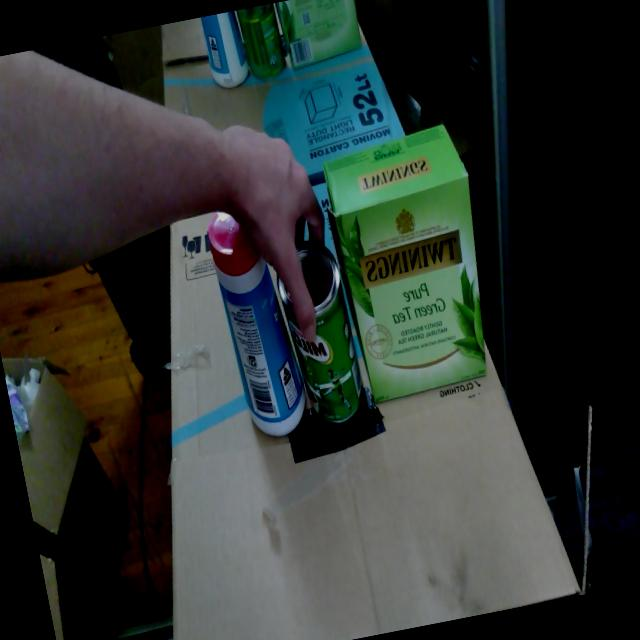nestle_milo_tin: (276, 241, 363, 424)
twinings_greentea_box: (323, 124, 487, 403)
woolworths_salt_bottle: (208, 212, 306, 436)
